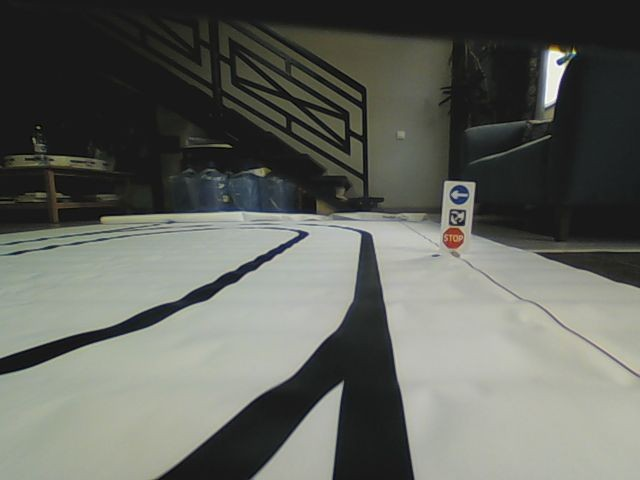Stop: (442, 226, 466, 250)
